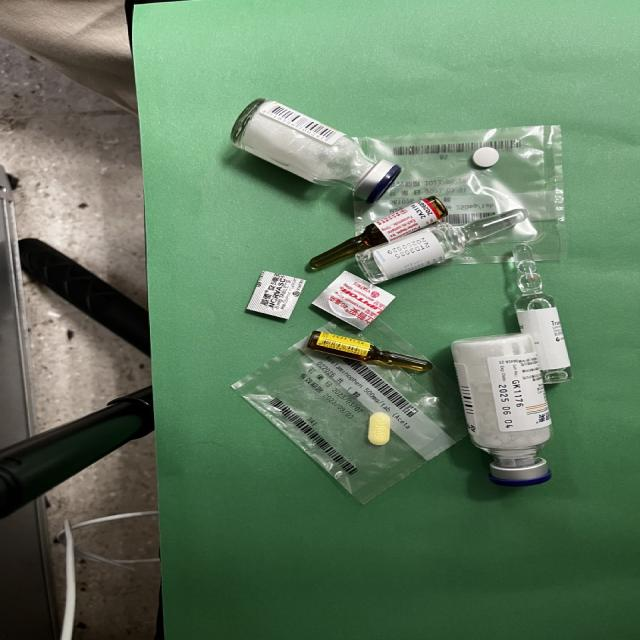Ampoules: (356, 209, 529, 284), (309, 196, 447, 270), (512, 243, 571, 386), (305, 329, 432, 371)
Vials: (231, 98, 400, 203), (451, 334, 551, 486)
